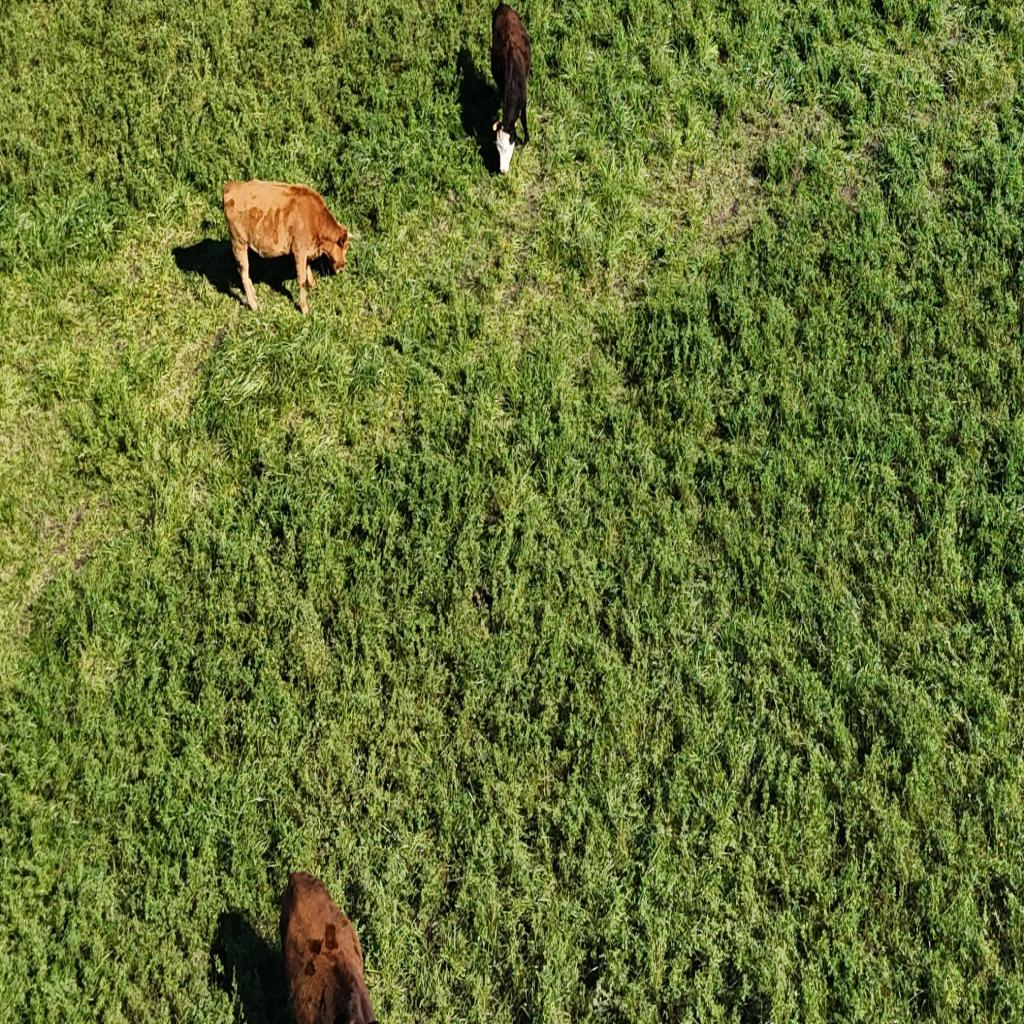cow: (222, 180, 348, 320), (280, 872, 378, 1023), (490, 2, 532, 175)
